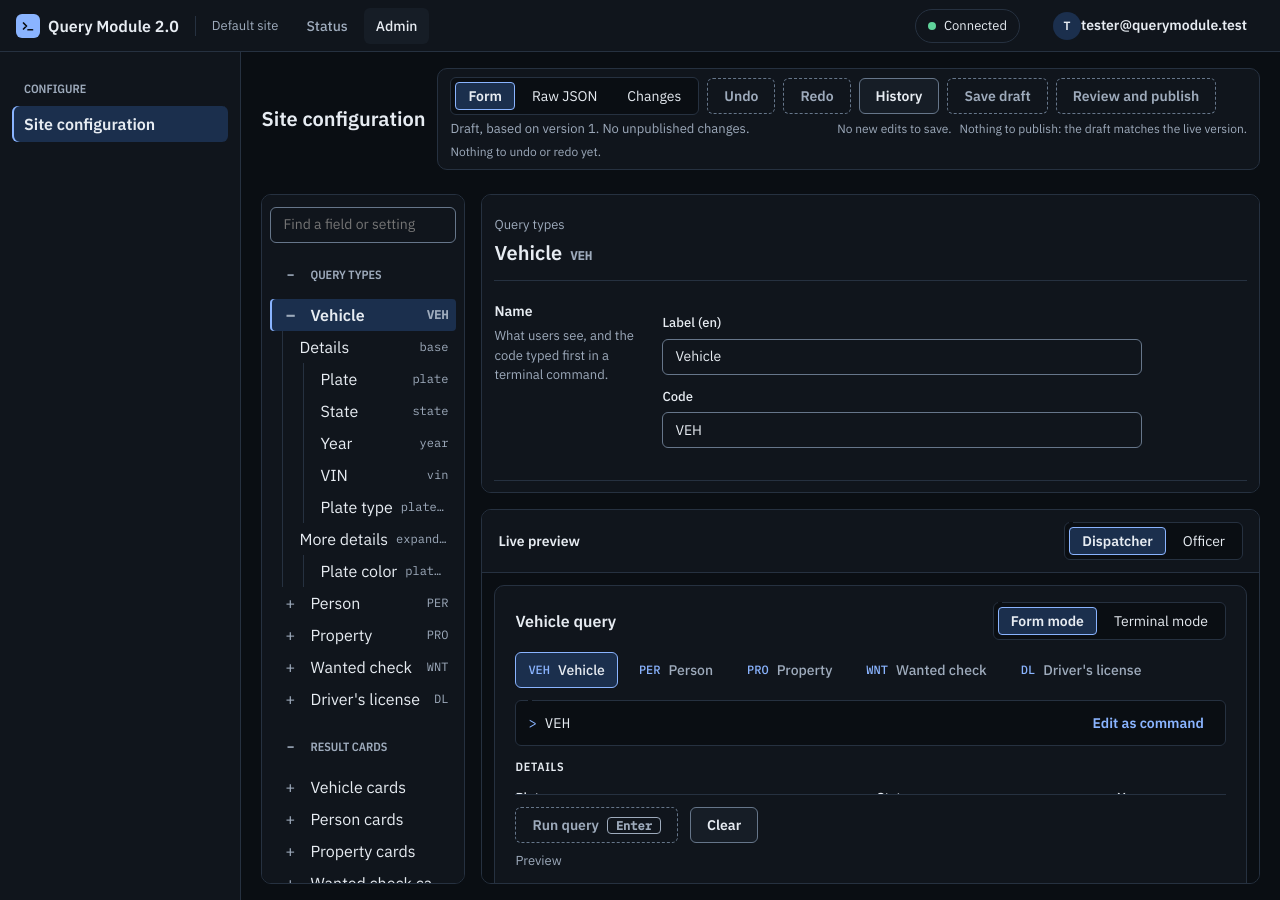
Test: rules editor (Task 31 part 2, spec 4.2, FR-060, UX-004) › shows a rule's target, effect and a $default comparison
Expected: the tab "Form" is shown, [456,82,515,110]
What coordinates should you click on to do the following:
click the list item "Vehicle VEH"
I would click on:
 (363, 314)
Its box is [270,298,456,330].
(page scrolled)
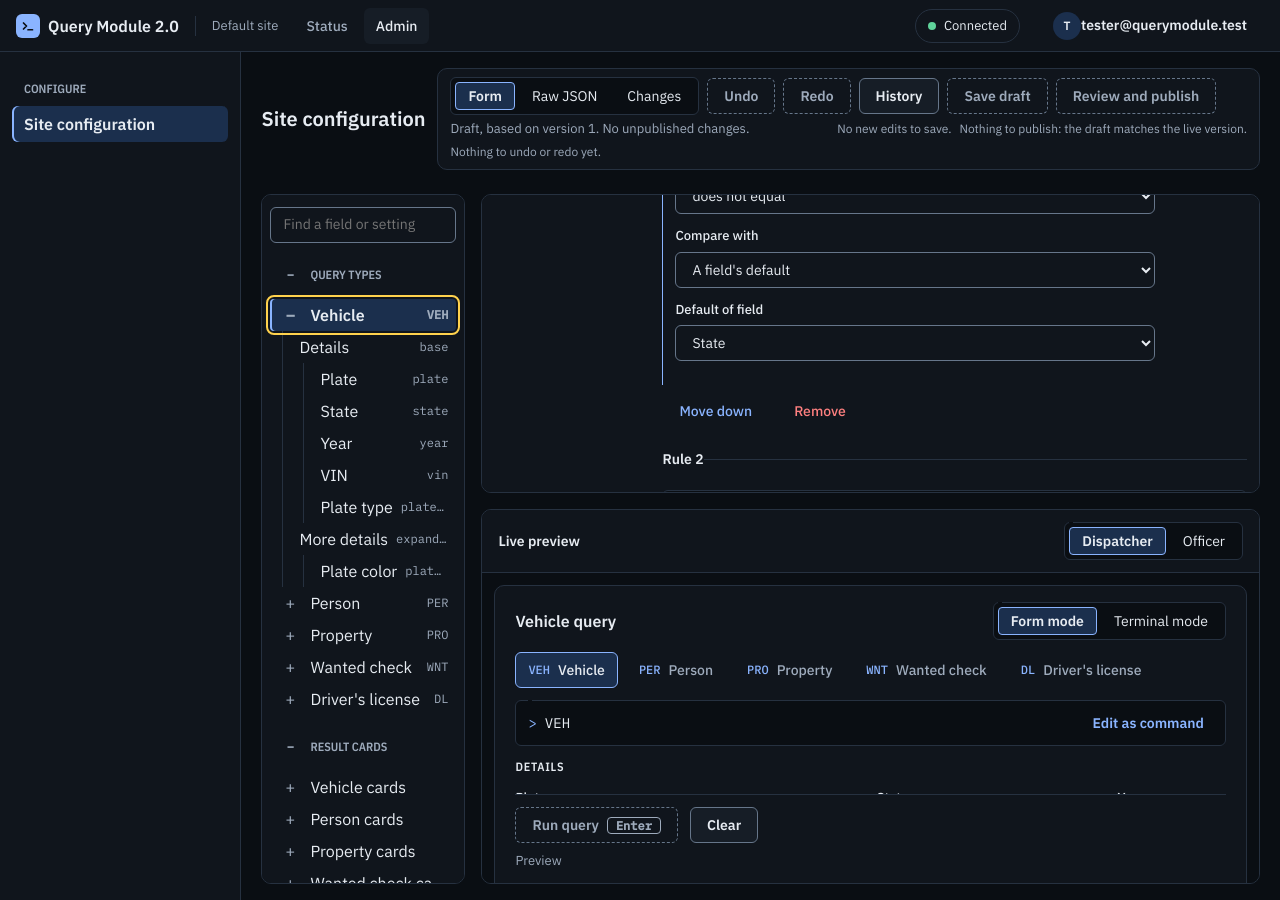
Now the dropdown labelled "Compare with" shows "A field's default", box [675,252,1155,288]
Now the dropdown labelled "Default of field" shows "State", box [675,325,1155,361]
